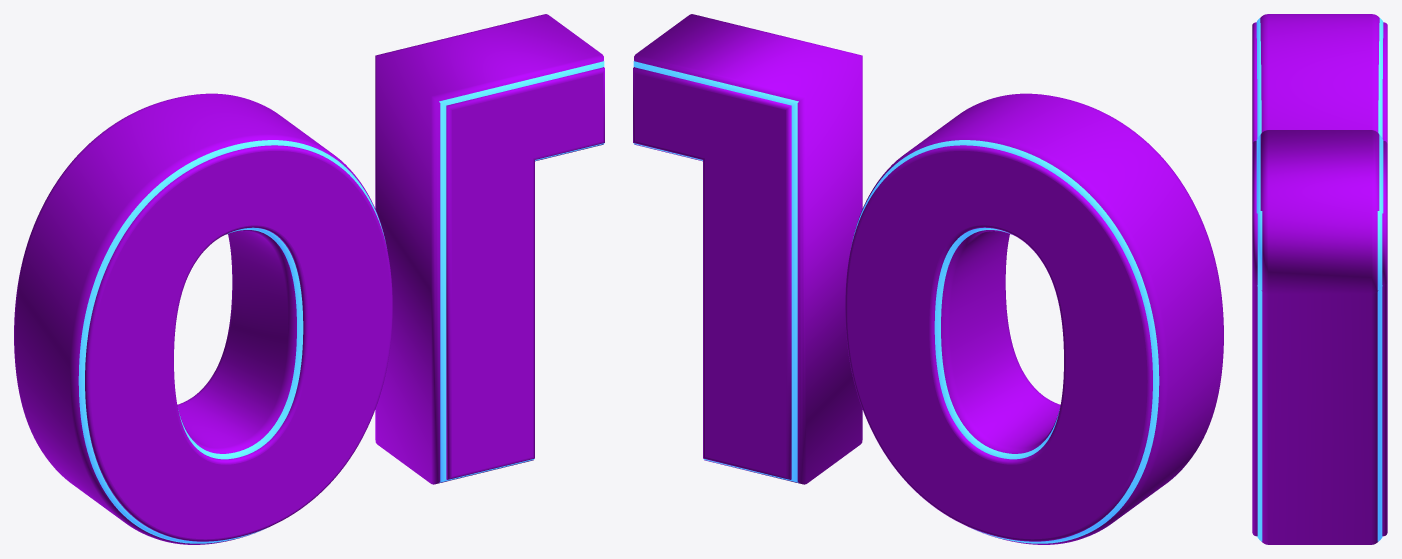
File: ten.fbx
The picture shows the model from 3 angles, left to right: view 1: azimuth 30°, elevation 25°; view 2: azimuth 150°, elevation 25°; view 3: azimuth 270°, elevation 25°; orthographic projection. The views are drawn at different scales.
Visible parts, largest first — view 1: Object_6; view 2: Object_6; view 3: Object_6.
Boxes of the visible parts, box(x1,y1,x2,y2) form: Object_6: box(14, 14, 604, 544); Object_6: box(633, 14, 1223, 544); Object_6: box(1252, 14, 1387, 544).
Size of the model in its own units: 4284 by 3076 by 994.
